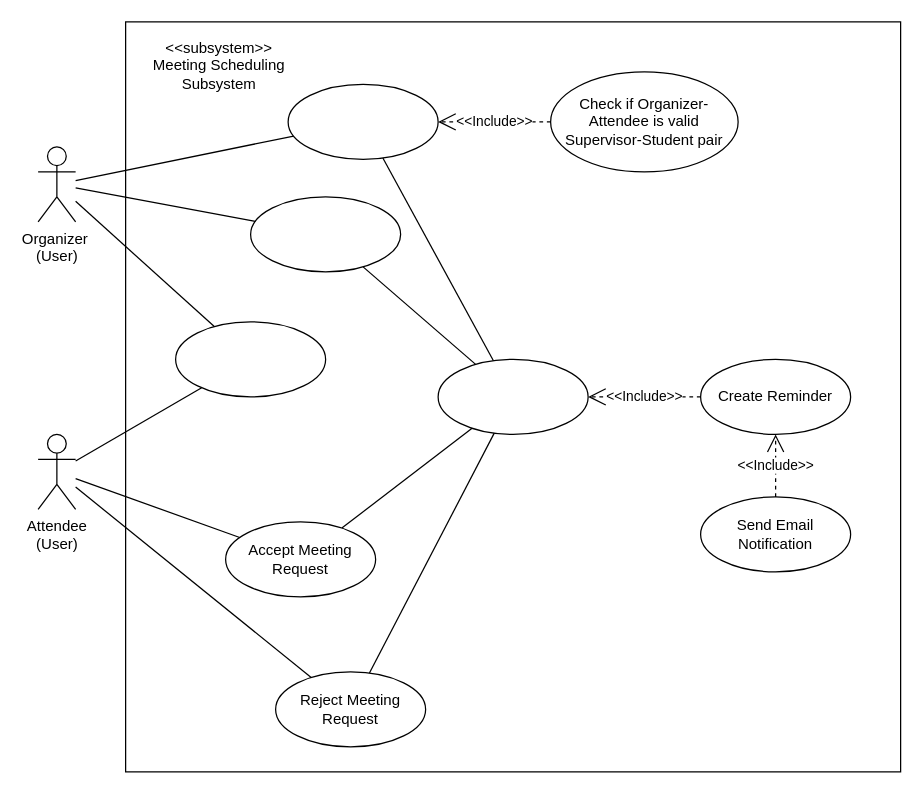
Image size: 923x794. Some labels were removed from this diagram. The shapes that lost their labels are listed below. From the top down, each one's box as (x1, y1, x2, y2) in pixels, then its label:
(287, 83, 438, 159): Book Meeting
(249, 196, 401, 272): Cancel Meeting
(174, 321, 326, 397): View Booked & Free Slots
(437, 358, 588, 434): Manage Meeting Request
